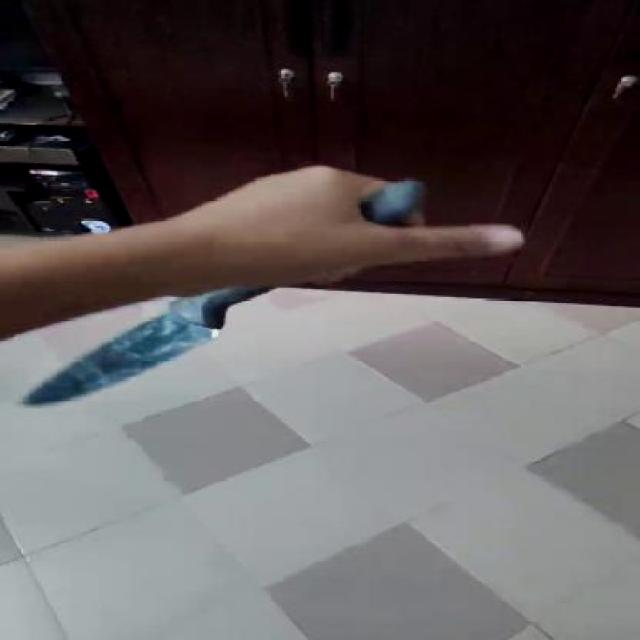knife: (15, 326, 237, 420)
